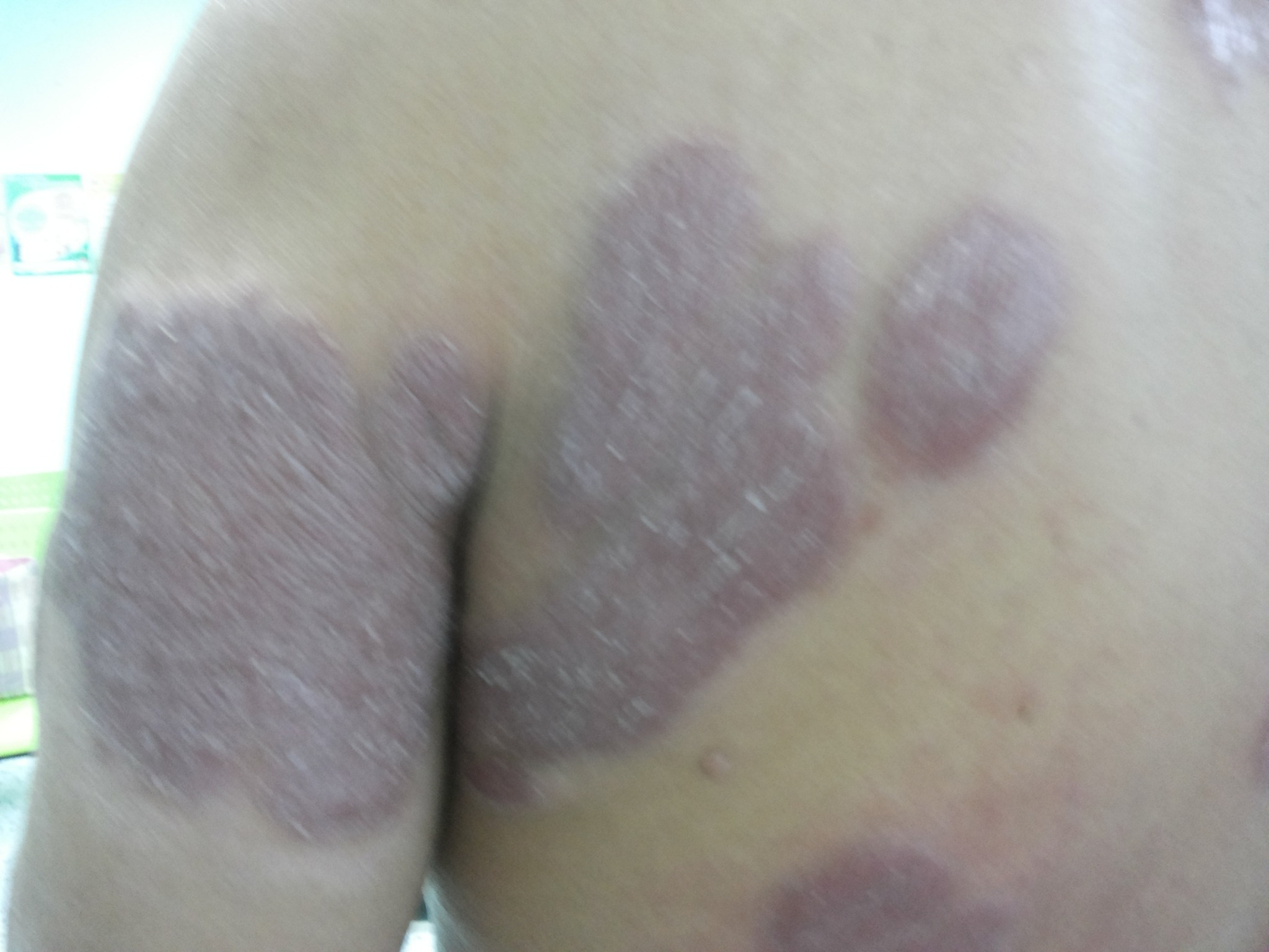Leprosy: (455, 127, 853, 815), (75, 264, 465, 860), (854, 187, 1074, 487), (753, 816, 1009, 952)
